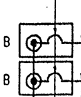Single Phase Tap-Off Unit: (17, 20, 76, 59), (16, 60, 76, 97)
